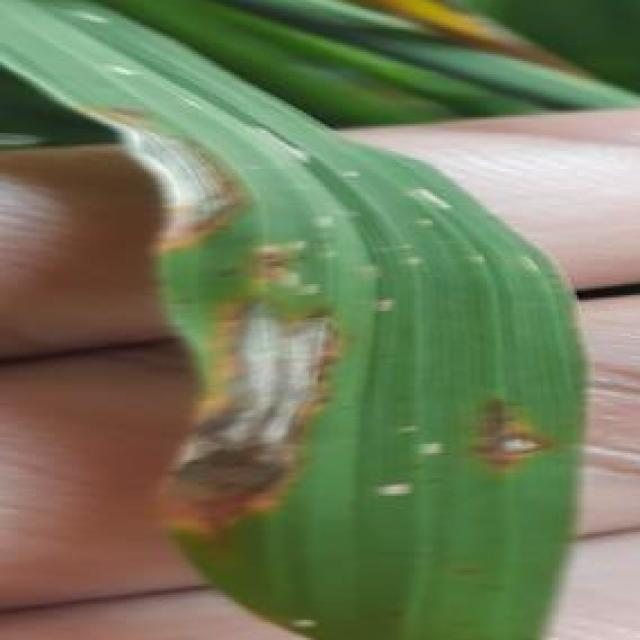Leaf_Blast: (164, 260, 350, 546), (90, 94, 268, 284), (480, 408, 579, 493)
